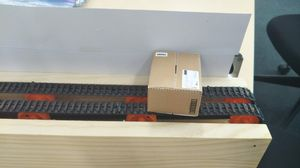box1: (145, 48, 202, 117)
